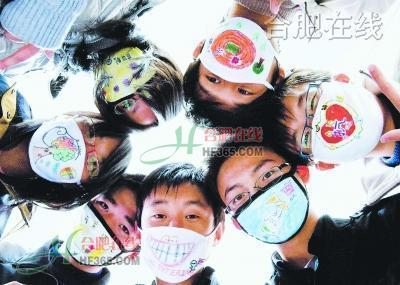face_mask: (282, 77, 382, 164), (219, 153, 308, 242), (24, 117, 130, 191), (98, 51, 182, 132), (73, 180, 146, 271), (139, 181, 213, 266), (190, 56, 267, 111)
